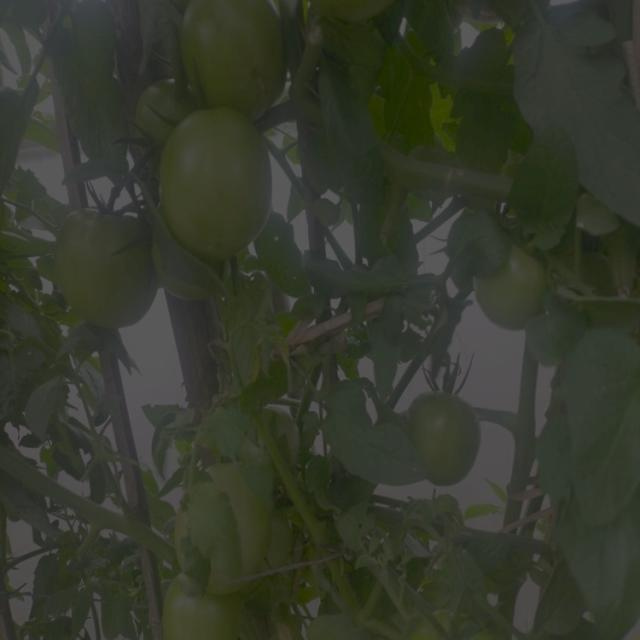tomato: (161, 104, 267, 265), (53, 203, 167, 332), (178, 1, 285, 107), (409, 388, 485, 487), (156, 578, 277, 640), (220, 459, 275, 577), (477, 244, 548, 329), (138, 77, 191, 153), (310, 1, 401, 23)
